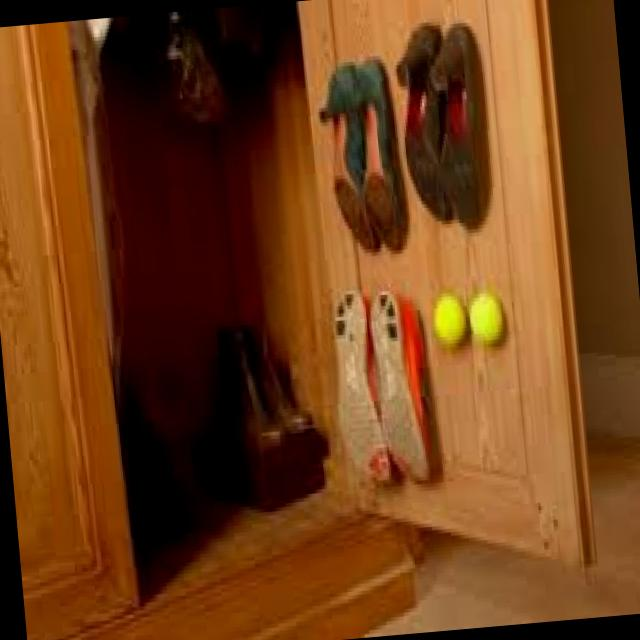tennis-ball: (468, 288, 502, 346), (432, 292, 467, 347)
